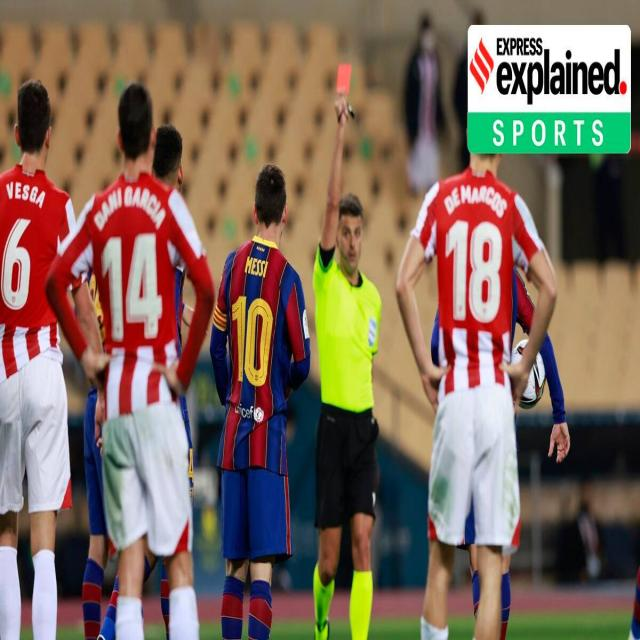red-card: (332, 60, 358, 140)
